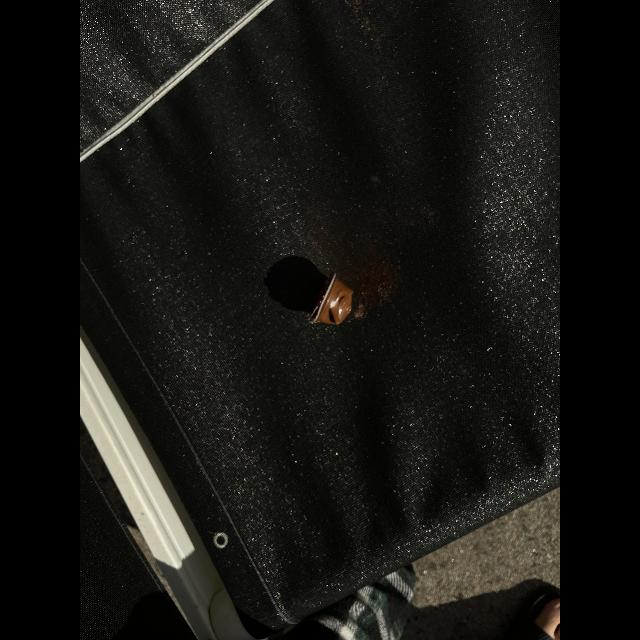damaged_capsule: (304, 266, 360, 332)
